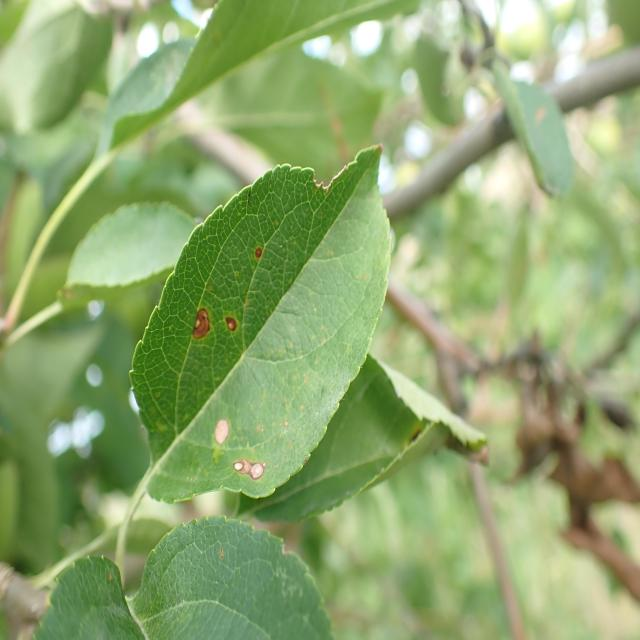Black Rot: (174, 284, 226, 368), (223, 449, 279, 494), (309, 144, 342, 206), (222, 290, 240, 347), (251, 234, 272, 280), (206, 407, 232, 444)
